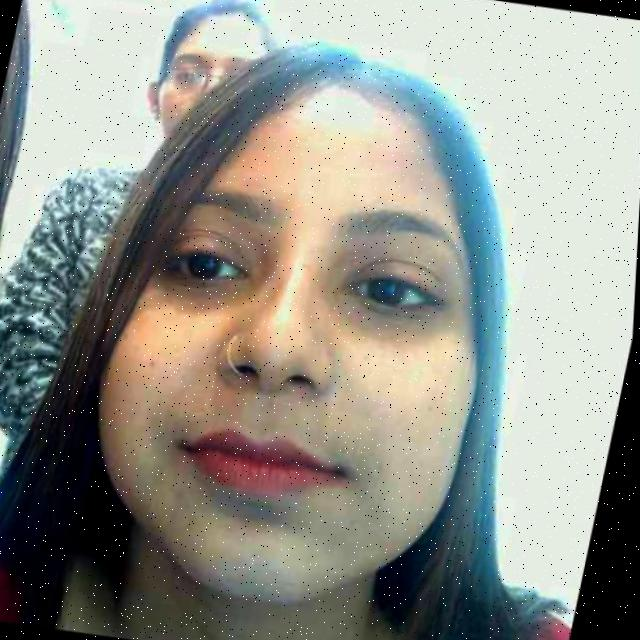puffy_eyes: (341, 290, 467, 346), (159, 281, 260, 309)
